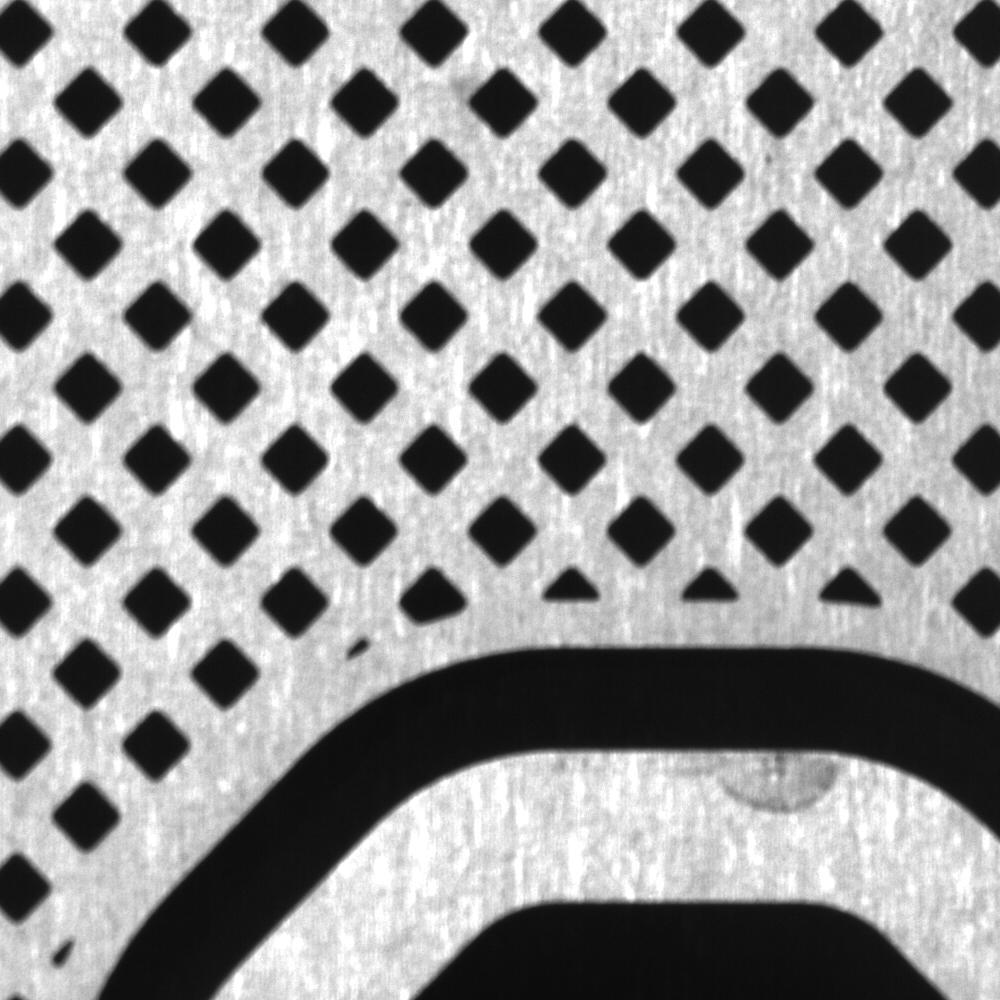Discolor: (663, 750, 849, 818)
